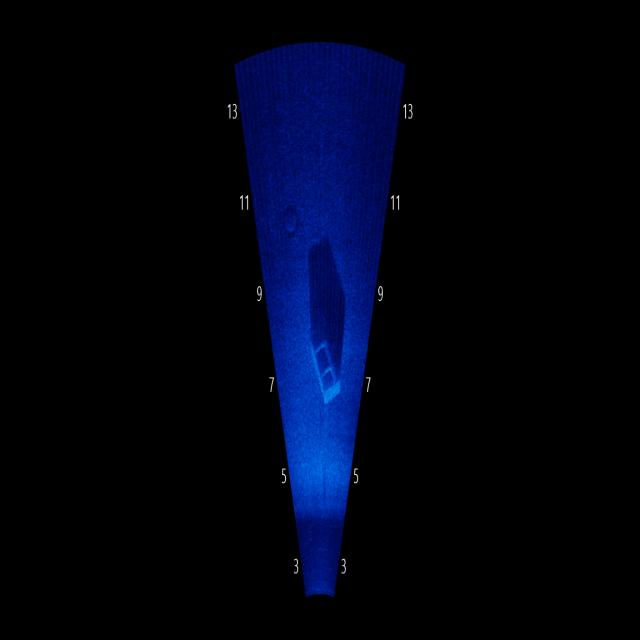circle: (278, 195, 304, 244)
square: (305, 322, 346, 420)
